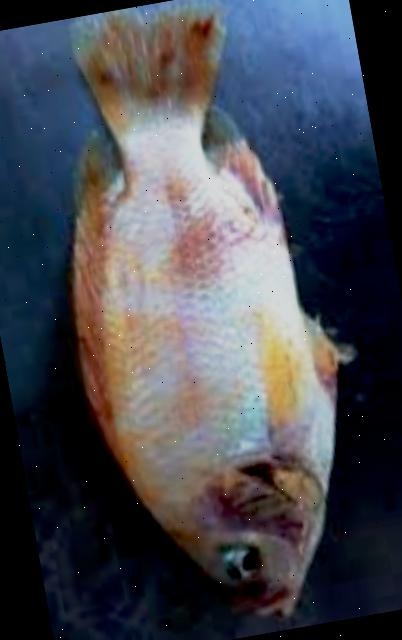Tilapia Lake Virus -TiLV-: (72, 6, 338, 613)
